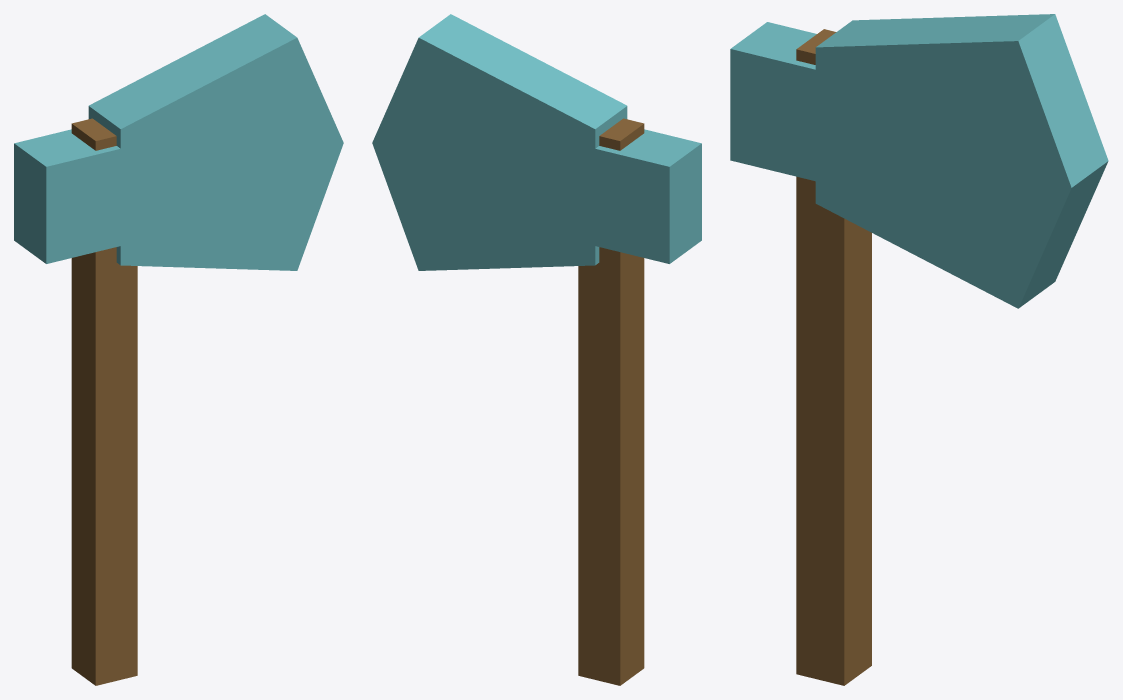
Rendered from axe_dia.fbx.
3 renders of one model, left to right at view 1: azimuth 30°, elevation 25°; view 2: azimuth 150°, elevation 25°; view 3: azimuth 330°, elevation 25°, orthographic. The views are drawn at different scales.
Parts seen in each view (by area): view 1: axe_dia; view 2: axe_dia; view 3: axe_dia.
Boxes of the visible parts, bbox=[...] form: axe_dia: bbox=[14, 14, 343, 685]; axe_dia: bbox=[372, 14, 701, 685]; axe_dia: bbox=[730, 14, 1108, 685].
Size of the model in its own units: 0.96 by 1.86 by 0.18.
